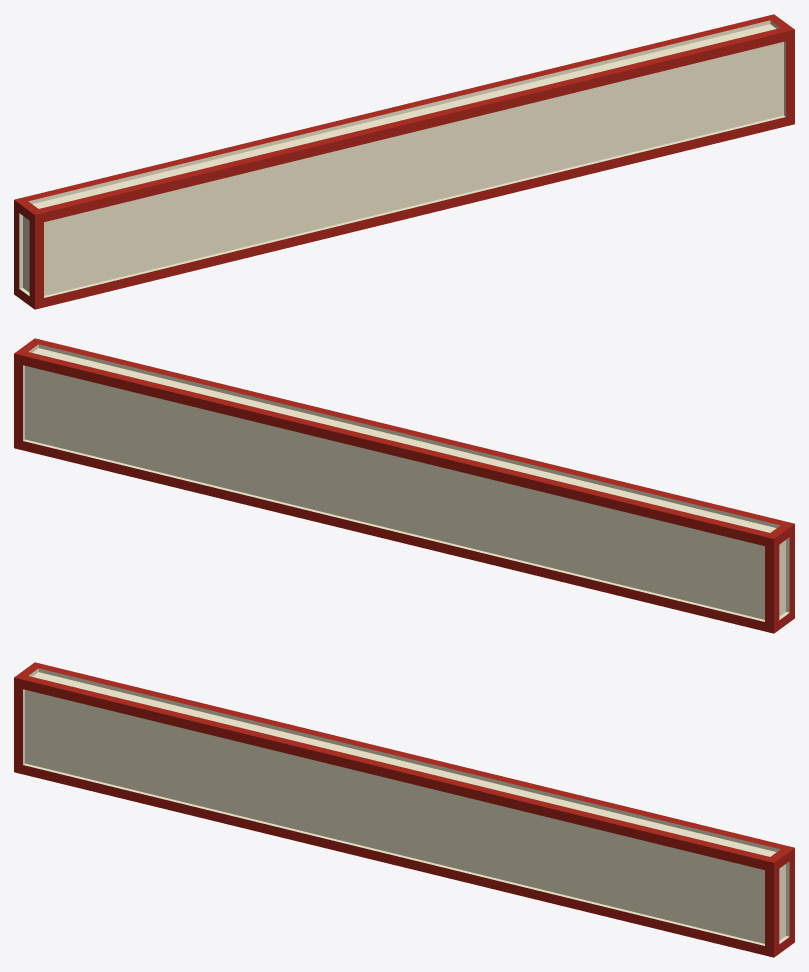
Rendered from emptyButton.glb.
The picture shows the model from 3 angles, top to bottom: view 1: azimuth 30°, elevation 25°; view 2: azimuth 150°, elevation 25°; view 3: azimuth 330°, elevation 25°; orthographic projection.
Visible parts, largest first — view 1: Button.004; view 2: Button.004; view 3: Button.004.
Boxes of the visible parts, x1=… form: Button.004: x1=14, y1=14, x2=794, y2=309; Button.004: x1=14, y1=338, x2=794, y2=633; Button.004: x1=14, y1=662, x2=794, y2=957.
Bounding box in the file's own units: 10.5 × 1.25 × 0.4999.
